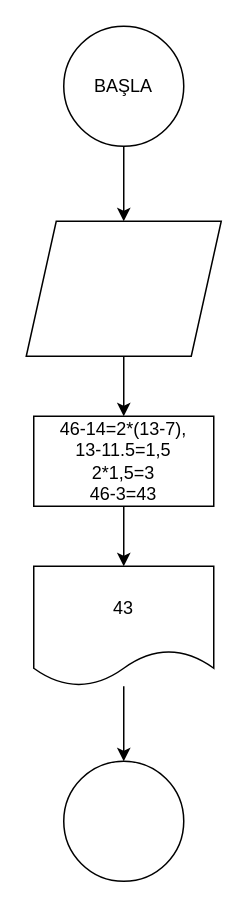
The diagram is 248 pixels wide and 908 high, and some of its shapes have lost their labels. Here are the shapes that lost their labels. From the top down, the box of each, then its label:
(25, 220, 221, 356): 34<A<46, 7<B<13
(62, 760, 184, 881): DUR
